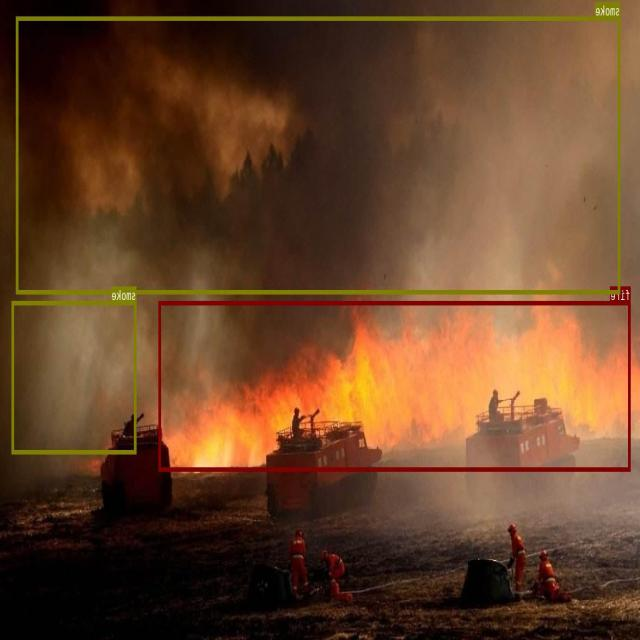fire: (159, 300, 631, 471)
smoke: (17, 16, 621, 293), (12, 300, 137, 454)
